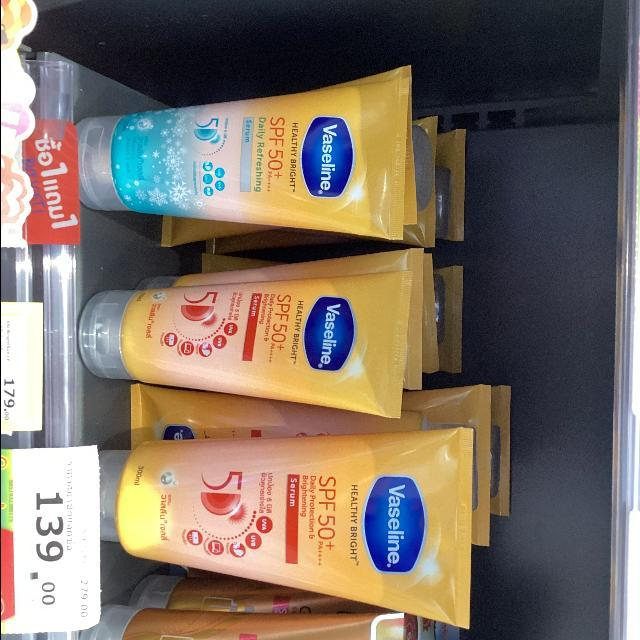Squeeze Tube: (53, 59, 531, 640), (93, 407, 480, 624), (71, 61, 416, 247), (70, 258, 419, 429)
